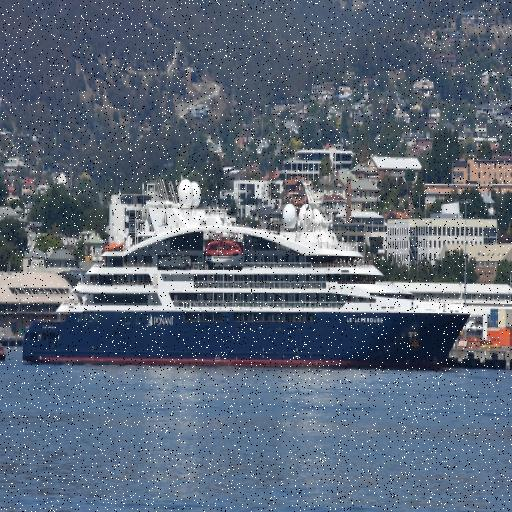cruises: (20, 166, 474, 379)
